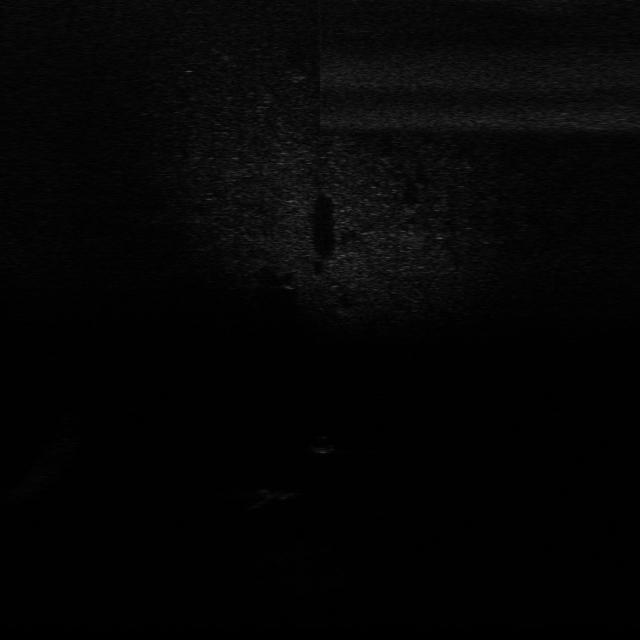ball: (306, 433, 340, 455)
square cage: (256, 484, 310, 504)
